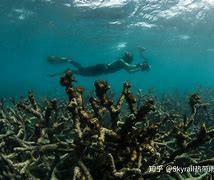bleached_corals: (0, 71, 214, 180)
